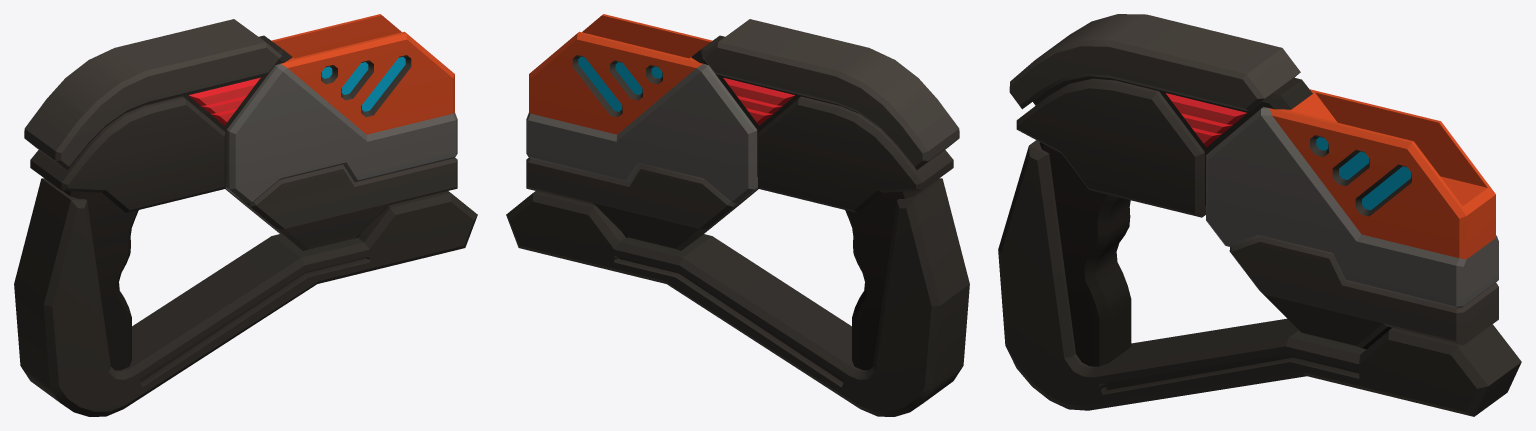
The model's file is Taser_Gun.fbx.
3 renders of one model, left to right at view 1: azimuth 30°, elevation 25°; view 2: azimuth 150°, elevation 25°; view 3: azimuth 330°, elevation 25°, orthographic. The views are drawn at different scales.
Parts seen in each view (by area): view 1: Taser_Gun; view 2: Taser_Gun; view 3: Taser_Gun.
Part boxes in pixels (left/top/right/bottom): Taser_Gun: left=14, top=14, right=477, bottom=416; Taser_Gun: left=506, top=14, right=969, bottom=416; Taser_Gun: left=998, top=14, right=1521, bottom=416.
Size of the model in its own units: 27.51 by 20.4 by 3.94.
